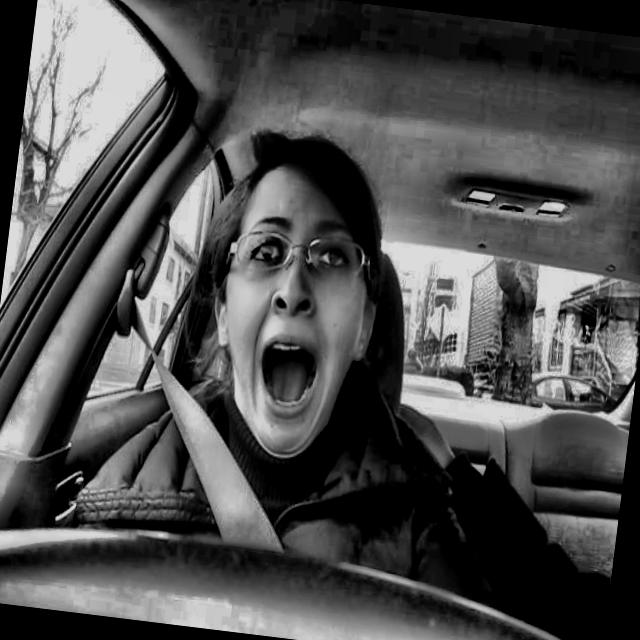open_eyes: (302, 239, 362, 279), (234, 232, 287, 270)
open_mouth: (250, 323, 330, 424)
